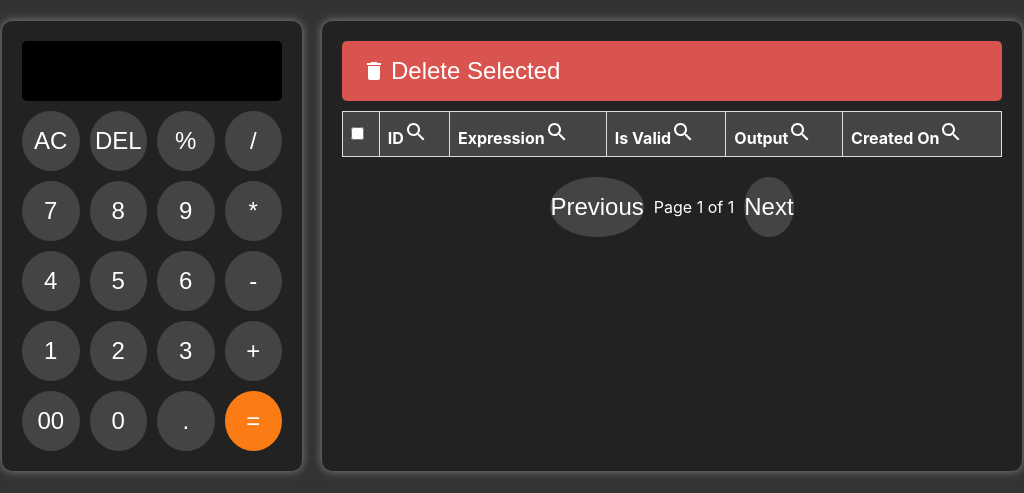
it: Calculator Component › clicking on operator buttons updates the display correctly
Click the button "1" at (51, 351), box [22,321,80,381]
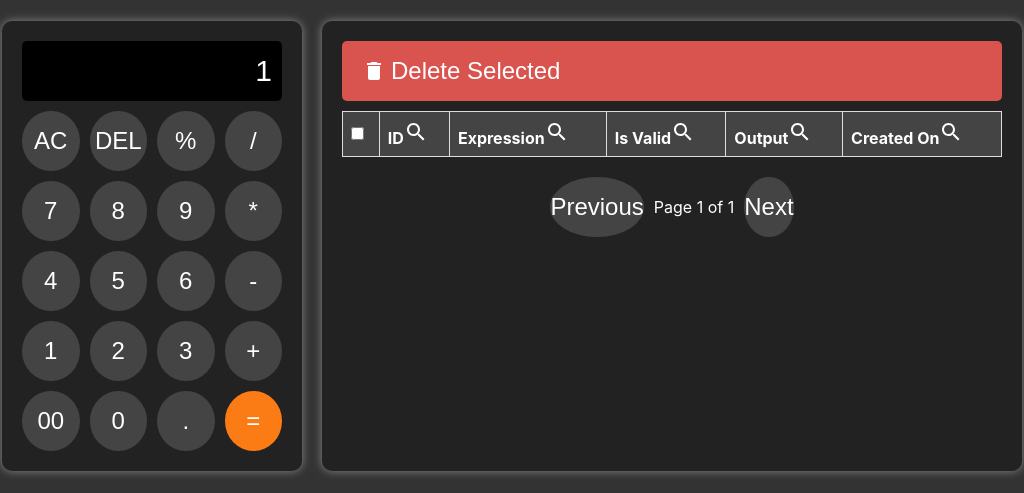
Click the button "+" at (253, 351), box [224,321,282,381]
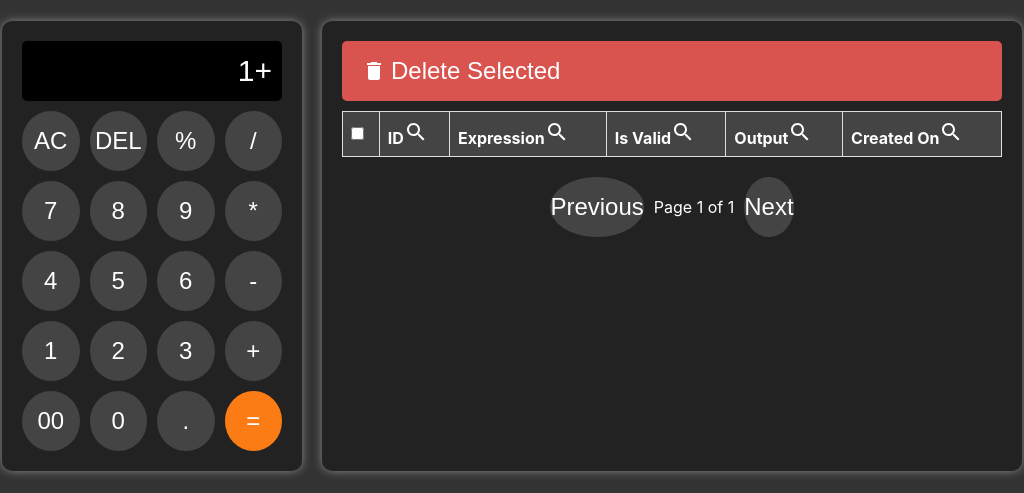
Click the button "2" at (118, 351), box [90,321,147,381]
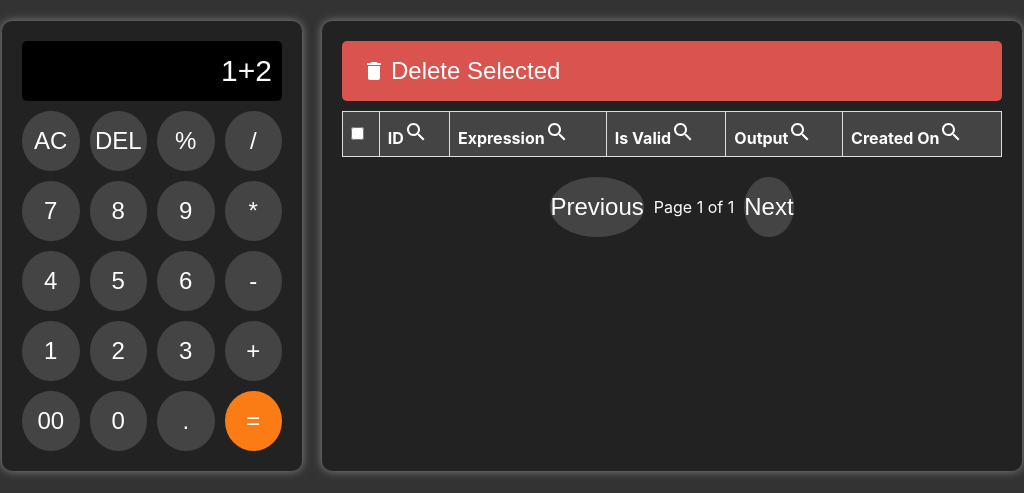
Now the field holds "1+2", box [22,41,282,101]
